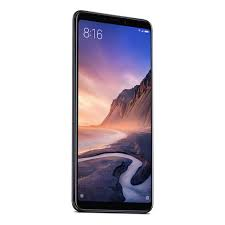mi: (67, 7, 156, 216)
